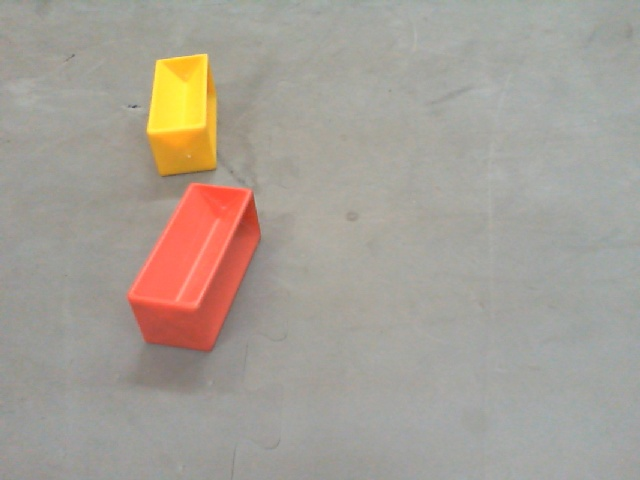RedSample: (123, 183, 262, 357)
YellowSample: (144, 53, 223, 178)
